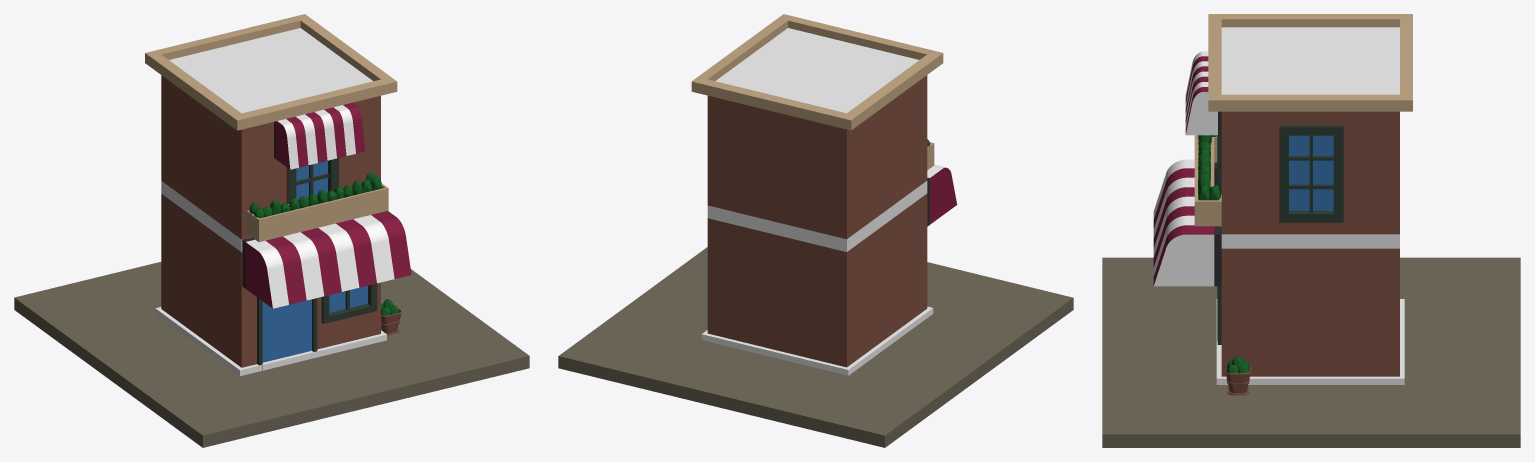
File: market.fbx
3 renders of one model, left to right at view 1: azimuth 30°, elevation 25°; view 2: azimuth 150°, elevation 25°; view 3: azimuth 270°, elevation 25°, orthographic. The views are drawn at different scales.
Parts seen in each view (by area): view 1: Plane.001, Plane, Plane.002; view 2: Plane.001, Plane, Plane.002; view 3: Plane.001, Plane, Plane.002, Plane.019.
Boxes of the visible parts, bbox=[...] form: Plane.001: bbox=[145, 14, 397, 375]; Plane: bbox=[14, 262, 529, 447]; Plane.002: bbox=[242, 103, 411, 308]; Plane.001: bbox=[691, 14, 943, 375]; Plane: bbox=[558, 247, 1073, 447]; Plane.002: bbox=[927, 165, 957, 226]; Plane.001: bbox=[1194, 14, 1412, 384]; Plane: bbox=[1102, 257, 1520, 447]; Plane.002: bbox=[1153, 51, 1221, 286]; Plane.019: bbox=[1225, 364, 1250, 393].
Size of the model in its own units: 254 by 203 by 254.
